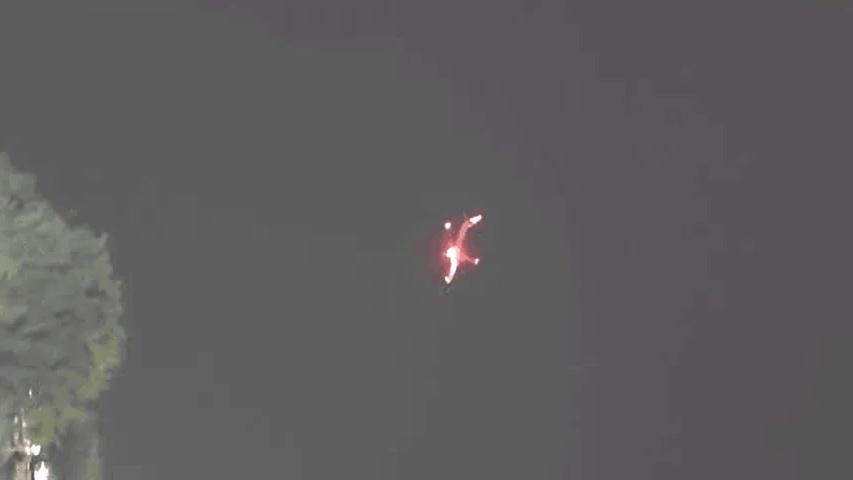Plane: (375, 181, 546, 310)
